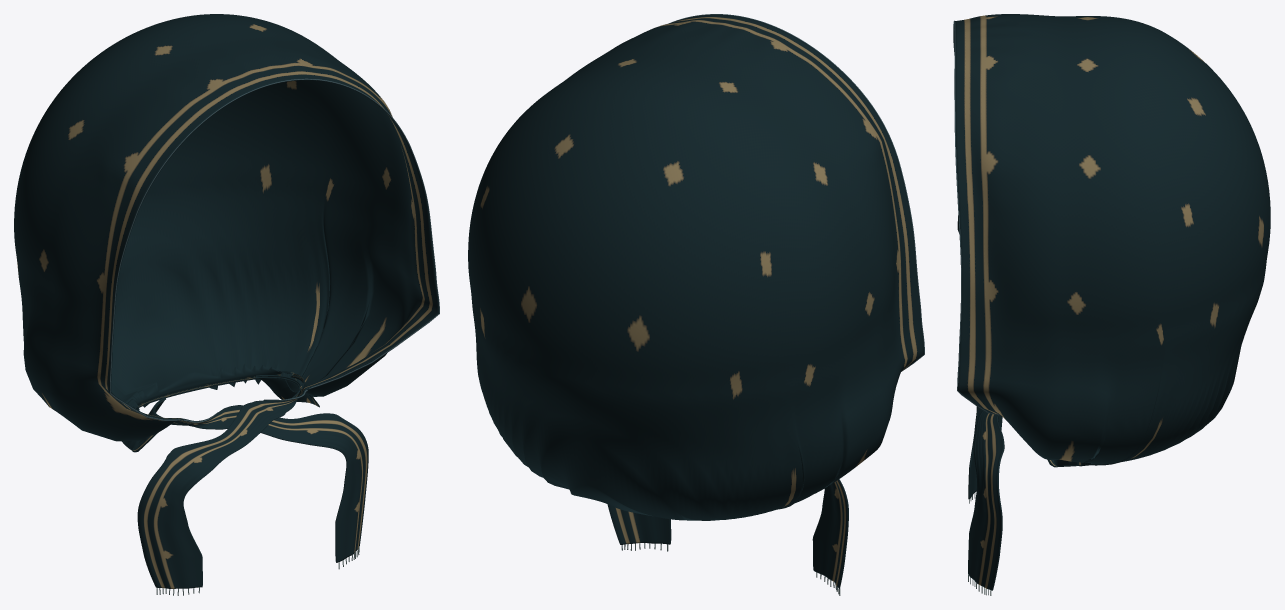
File: Masculine-Masculine-taper-jersey-pashmina250-headgear-1f84a86f.glb
3 views of the same model, side by side, from view 1: azimuth 30°, elevation 25°; view 2: azimuth 150°, elevation 25°; view 3: azimuth 270°, elevation 25° (orthographic). The views are drawn at different scales.
Visible parts, largest first — view 1: 226 headgear / Headwear / continuous woven pashmina239, 226 headgear / Headwear / face edge239; view 2: 226 headgear / Headwear / continuous woven pashmina239, 226 headgear / Headwear / face edge239; view 3: 226 headgear / Headwear / continuous woven pashmina239, 226 headgear / Headwear / face edge239.
Boxes of the visible parts, bbox=[...] form: 226 headgear / Headwear / continuous woven pashmina239: bbox=[14, 14, 438, 588]; 226 headgear / Headwear / face edge239: bbox=[110, 78, 439, 422]; 226 headgear / Headwear / continuous woven pashmina239: bbox=[468, 14, 923, 588]; 226 headgear / Headwear / face edge239: bbox=[669, 14, 924, 371]; 226 headgear / Headwear / continuous woven pashmina239: bbox=[953, 14, 1270, 590]; 226 headgear / Headwear / face edge239: bbox=[953, 20, 1000, 415].
Bounding box in the file's own units: 0.8798 × 1.22 × 0.681.
Materials: 3 (1 with a texture image).
